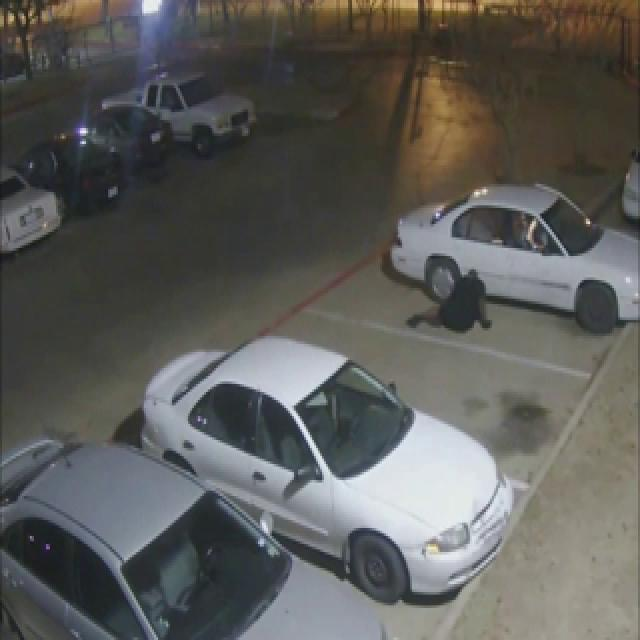arrest: (330, 31, 569, 433)
